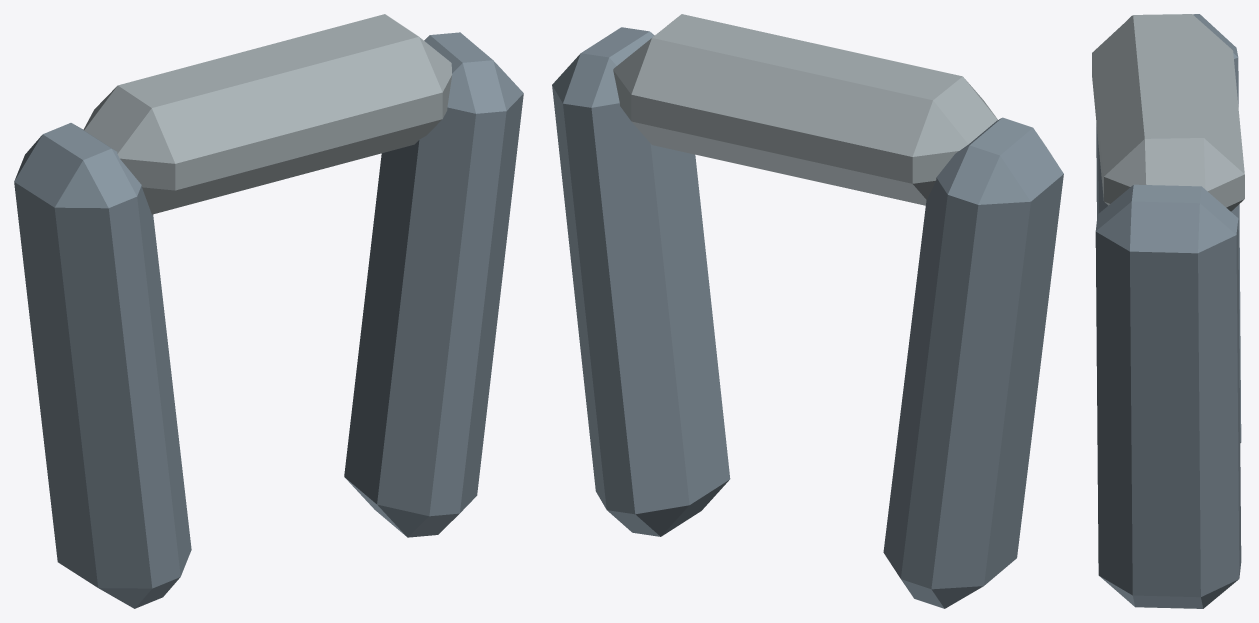
The model's file is Rock_04_LOD0.fbx.
3 renders of one model, left to right at view 1: azimuth 30°, elevation 25°; view 2: azimuth 150°, elevation 25°; view 3: azimuth 270°, elevation 25°, orthographic. The views are drawn at different scales.
Parts seen in each view (by area): view 1: Rock_04_LOD0; view 2: Rock_04_LOD0; view 3: Rock_04_LOD0.
Part boxes in pixels (x1=…): Rock_04_LOD0: x1=14, y1=14, x2=523, y2=608; Rock_04_LOD0: x1=552, y1=14, x2=1063, y2=608; Rock_04_LOD0: x1=1092, y1=14, x2=1244, y2=608.
Bounding box in the file's own units: 225 × 224 × 67.11.
